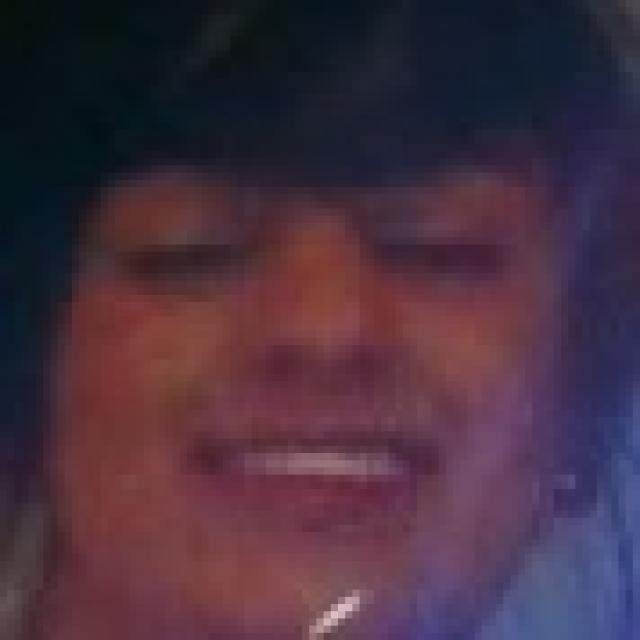Eyeclosed: (383, 216, 499, 282), (124, 228, 246, 284)
